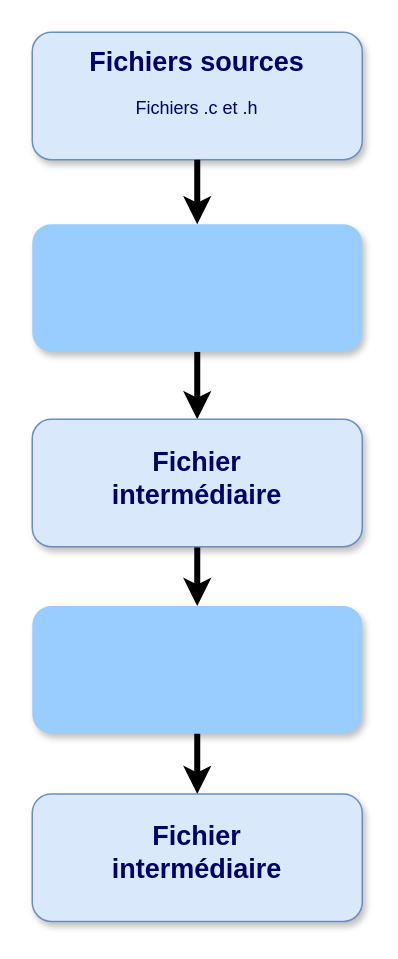
Image size: 398x959. Some labels were removed from this diagram. Here are the shapes that lost their labels. From the top down, the centre of each, then its label:
At pixel 198 290: "Préprocesseur".
At pixel 198 671: "Compilateur".
